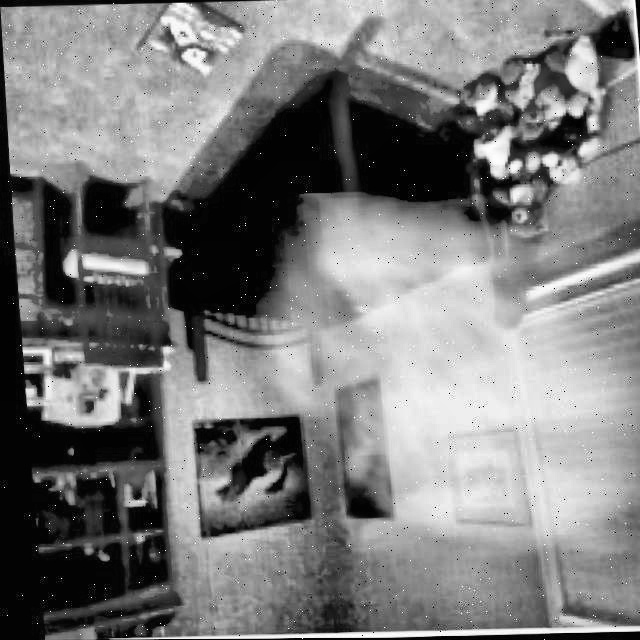Smoke: (221, 184, 640, 567)
